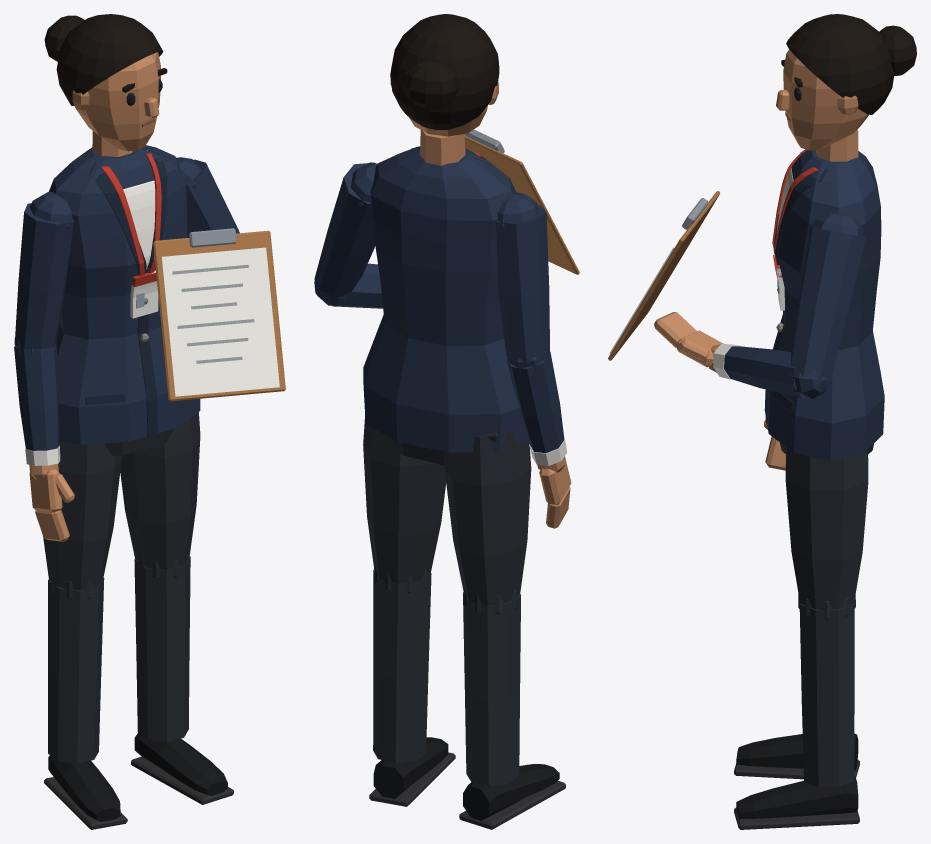
The model's file is person_dela_vega.glb.
3 views of the same model, side by side, from view 1: azimuth 30°, elevation 25°; view 2: azimuth 150°, elevation 25°; view 3: azimuth 270°, elevation 25° (orthographic). The views are drawn at different scales.
Visible parts, largest first — view 1: Chest, Clipboard, Head, Shin_R, Shin_L, Thigh_L, Thigh_R, UpperArm_R, Forearm_R, Foot_L, Foot_R, UpperArm_L (+3 smaller); view 2: Chest, Thigh_R, Head, Shin_R, Shin_L, Thigh_L, UpperArm_R, UpperArm_L, Forearm_R, Foot_R, Foot_L, Clipboard (+4 smaller); view 3: Chest, Head, Thigh_L, Shin_L, UpperArm_L, Foot_L, Forearm_L, Foot_R, Clipboard, Hand_L, Neck.
Part boxes in pixels (<box>): Chest: <box>49,145,200,444</box>; Clipboard: <box>153,228,285,401</box>; Head: <box>44,14,167,151</box>; Shin_R: <box>48,574,104,763</box>; Shin_L: <box>134,552,190,741</box>; Thigh_L: <box>120,412,200,570</box>; Thigh_R: <box>43,440,121,590</box>; UpperArm_R: <box>14,192,74,349</box>; Forearm_R: <box>14,338,60,465</box>; Foot_L: <box>131,732,233,804</box>; Foot_R: <box>44,755,127,829</box>; UpperArm_L: <box>176,157,239,237</box>; Chest: <box>363,146,528,452</box>; Thigh_R: <box>444,431,531,605</box>; Head: <box>390,14,499,136</box>; Shin_R: <box>463,588,520,785</box>; Shin_L: <box>373,566,431,763</box>; Thigh_L: <box>363,415,446,583</box>; UpperArm_R: <box>496,192,549,362</box>; UpperArm_L: <box>314,162,377,299</box>; Forearm_R: <box>506,351,567,465</box>; Foot_R: <box>459,764,565,829</box>; Foot_L: <box>369,737,455,806</box>; Clipboard: <box>464,129,579,274</box>; Chest: <box>764,149,884,460</box>; Head: <box>776,14,916,150</box>; Thigh_L: <box>785,447,868,609</box>; Shin_L: <box>798,594,855,787</box>; UpperArm_L: <box>790,212,865,381</box>; Foot_L: <box>734,776,859,829</box>; Forearm_L: <box>713,344,829,399</box>; Foot_R: <box>734,733,859,779</box>; Clipboard: <box>608,191,720,360</box>; Hand_L: <box>654,312,723,372</box>; Neck: <box>816,129,858,161</box>.
Bounding box in the file's own units: 0.5227 × 1.61 × 0.5824.
